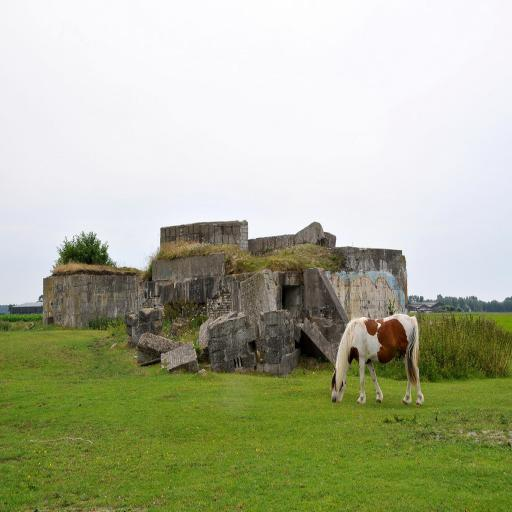horse: (330, 312, 424, 409)
